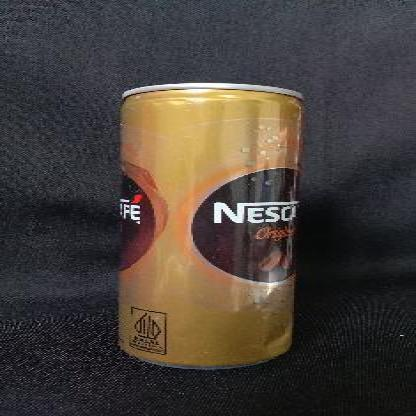alumunium_can: (117, 83, 304, 370)
